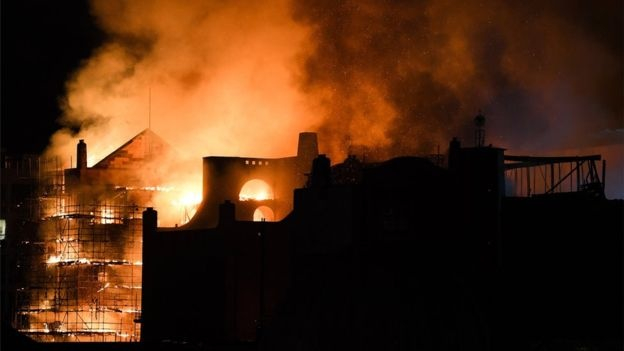Smoke: (336, 17, 475, 138), (135, 7, 321, 74), (206, 75, 300, 150), (128, 82, 195, 131)
